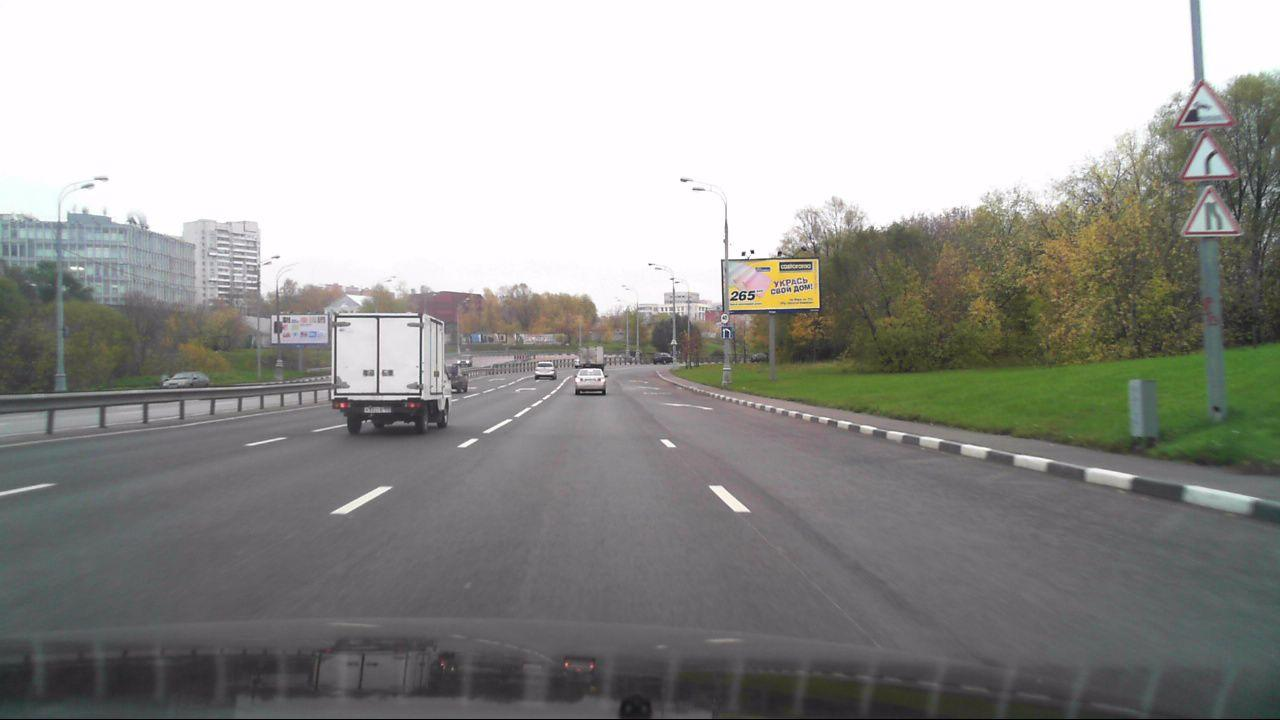1_10: (1177, 78, 1233, 126)
1_11_1: (1180, 134, 1235, 179)
1_20_2: (1175, 186, 1246, 238)
3_24: (719, 312, 731, 324)
5_15_5: (720, 327, 734, 339)
